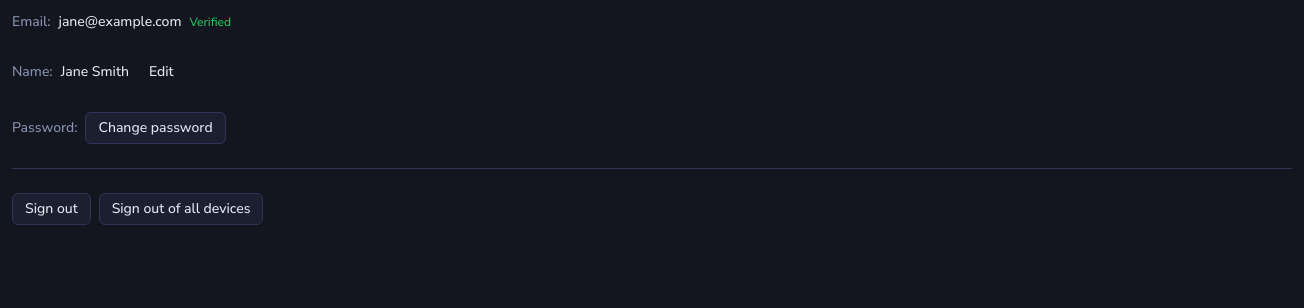
Test: AccountSection › name editing › shows name input when edit is clicked
Step 1. Click the button "Edit" → [161, 72], box x1=137 y1=56 x2=186 y2=88
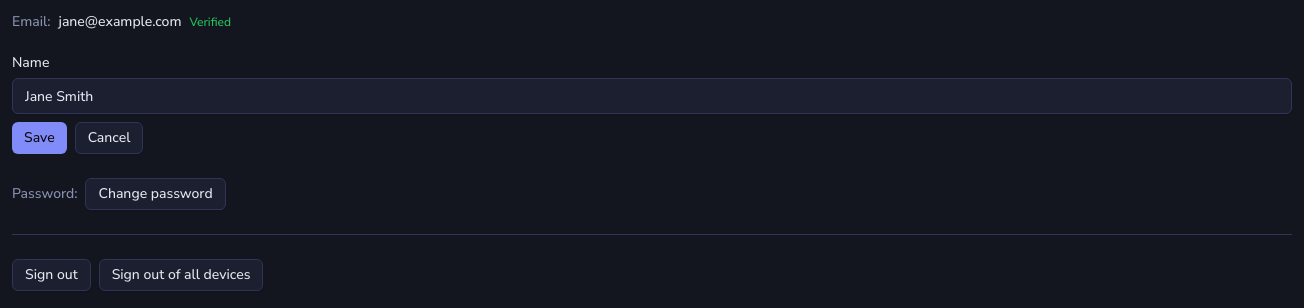
Now the field labelled "Name" is shown, box x1=12 y1=78 x2=1292 y2=114
